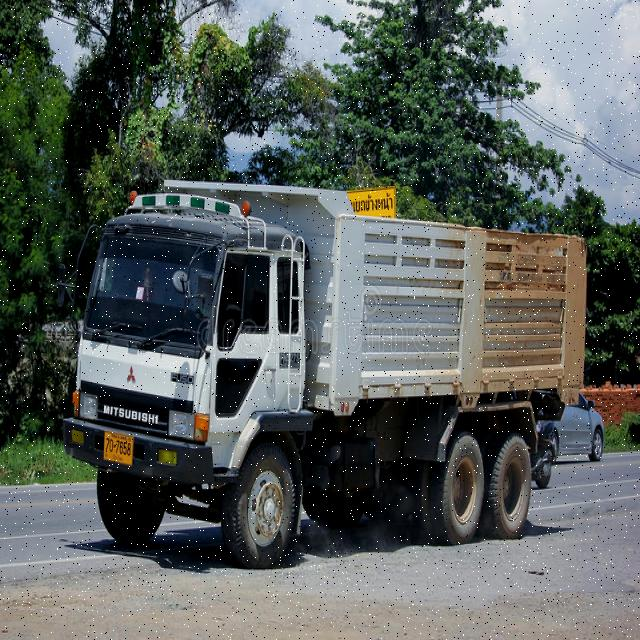truck: (59, 174, 584, 566)
